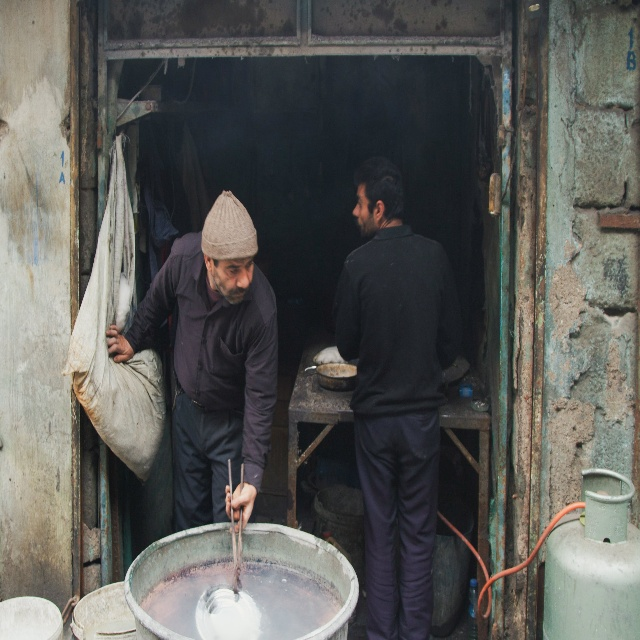Sin_guantes: (225, 483, 256, 533), (104, 320, 134, 364)
